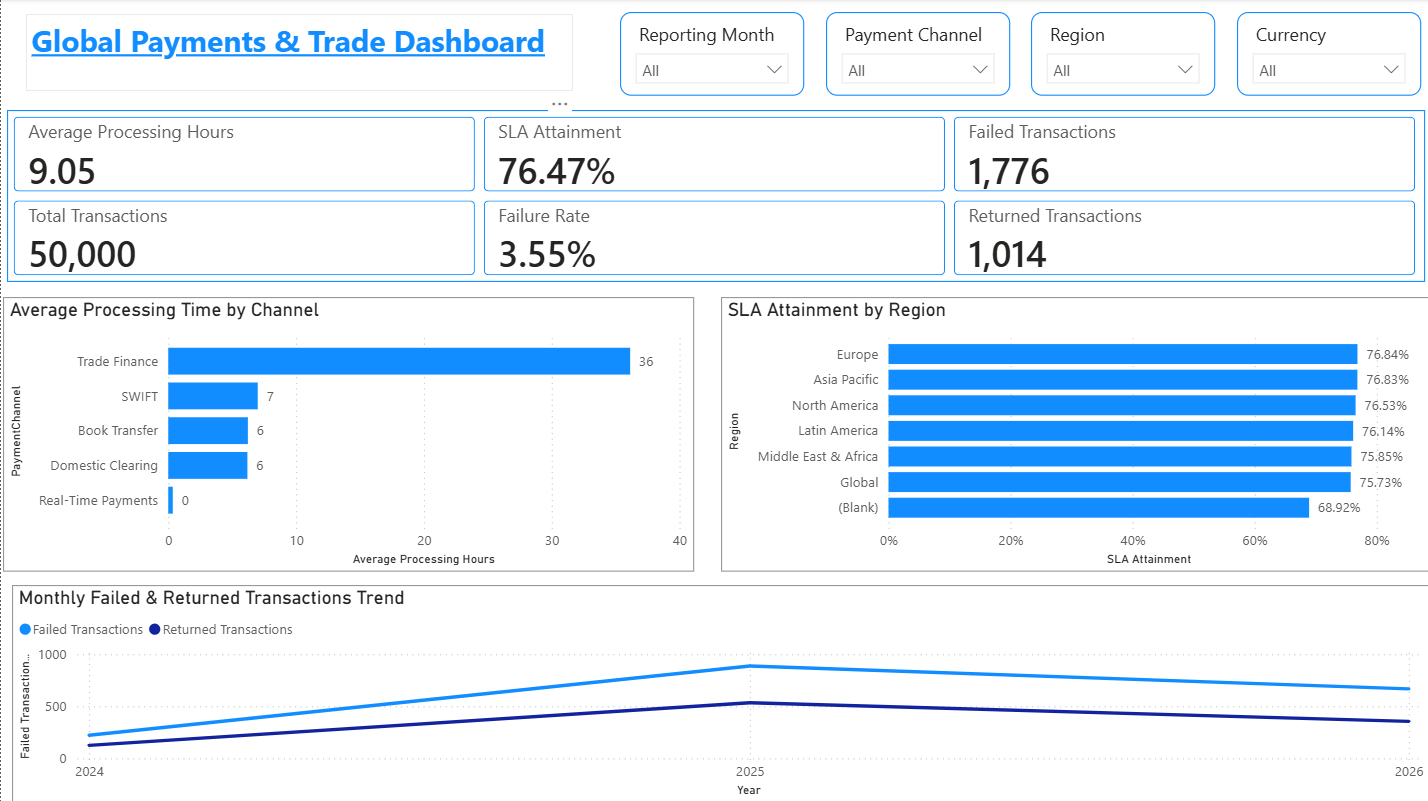

This screenshot's page, from the dashboard's own definition file:
{"tool":"tableau","page":{"name":"Payments Operations Dashboard","canvas":[1000,1000],"units":"permille","ordinal":2},"visuals":[{"type":"title","box":[4.7,8.9,990.6,45.8]},{"type":"worksheet","title":"Returned Transactions","mark":"Automatic","box":[815.7,50.2,162.1,90.4]},{"type":"worksheet","title":"Failed Transactions","mark":"Automatic","box":[620.2,52.5,152.1,89.3]},{"type":"worksheet","title":"SLA Attainment","mark":"Automatic","box":[440.6,59.1,139.8,93.8]},{"type":"worksheet","title":"Average Processing Hours","mark":"Automatic","box":[171.5,71.4,156.8,83.7]},{"type":"worksheet","title":"KPI – Total Transactions","mark":"Automatic","box":[8.2,72.5,125.8,77]},{"type":"filter","title":"Average Processing Time by Channel","param":"[federated.0pb43j907aj0ad1bkzezx1xp1x8t].[none:Currency:nk]","box":[841.4,167.4,93.6,120.5]},{"type":"filter","title":"Average Processing Time by Channel","param":"[federated.0pb43j907aj0ad1bkzezx1xp1x8t].[none:Region:nk]","box":[326.5,168.5,93.6,152.9]},{"type":"filter","title":"Average Processing Time by Channel","param":"[federated.0pb43j907aj0ad1bkzezx1xp1x8t].[none:PaymentChannel:nk]","box":[17,177.5,93.6,154]},{"type":"filter","title":"Average Processing Time by Channel","param":"[federated.0pb43j907aj0ad1bkzezx1xp1x8t].[none:TransactionDate:qk]","box":[585.7,194.2,93.6,68.1]},{"type":"worksheet","title":"Average Processing Time by Channel","mark":"Automatic","rows":["ProcessingHours"],"cols":["PaymentChannel"],"box":[2.9,332.6,482.2,309.2]},{"type":"worksheet","title":"SLA Attainment by Region","mark":"Bar","rows":["Calculation_0412106123812865"],"cols":["Region"],"box":[523.7,338.2,466.9,280.1]},{"type":"worksheet","title":"Monthly Failure and Return Trend","mark":"Automatic","rows":["TransactionID"],"cols":["TransactionDate","TransactionDate"],"box":[0.6,654,1002.9,332.6]},{"type":"legend","title":"Monthly Failure and Return Trend","param":"[federated.0pb43j907aj0ad1bkzezx1xp1x8t].[none:Status:nk]","box":[914,678.6,81.9,64.7]}]}

Visuals, with their boxes on the dashboard's canvas, which has no fixed pixel size, in thousandths of its width and height (x1, y1, x2, y2). These are canvas units, not pixel positions in the 1428x801 screenshot, which may show the page scaled, cropped or inside an application window:
title: locate(5, 9, 995, 55)
"Returned Transactions" worksheet: locate(816, 50, 978, 141)
"Failed Transactions" worksheet: locate(620, 52, 772, 142)
"SLA Attainment" worksheet: locate(441, 59, 580, 153)
"Average Processing Hours" worksheet: locate(172, 71, 328, 155)
"KPI – Total Transactions" worksheet: locate(8, 72, 134, 150)
"Average Processing Time by Channel" filter: locate(841, 167, 935, 288)
"Average Processing Time by Channel" filter: locate(326, 168, 420, 321)
"Average Processing Time by Channel" filter: locate(17, 178, 111, 332)
"Average Processing Time by Channel" filter: locate(586, 194, 679, 262)
"Average Processing Time by Channel" worksheet: locate(3, 333, 485, 642)
"SLA Attainment by Region" worksheet (Bar marks): locate(524, 338, 991, 618)
"Monthly Failure and Return Trend" worksheet: locate(1, 654, 1004, 987)
"Monthly Failure and Return Trend" legend: locate(914, 679, 996, 743)
